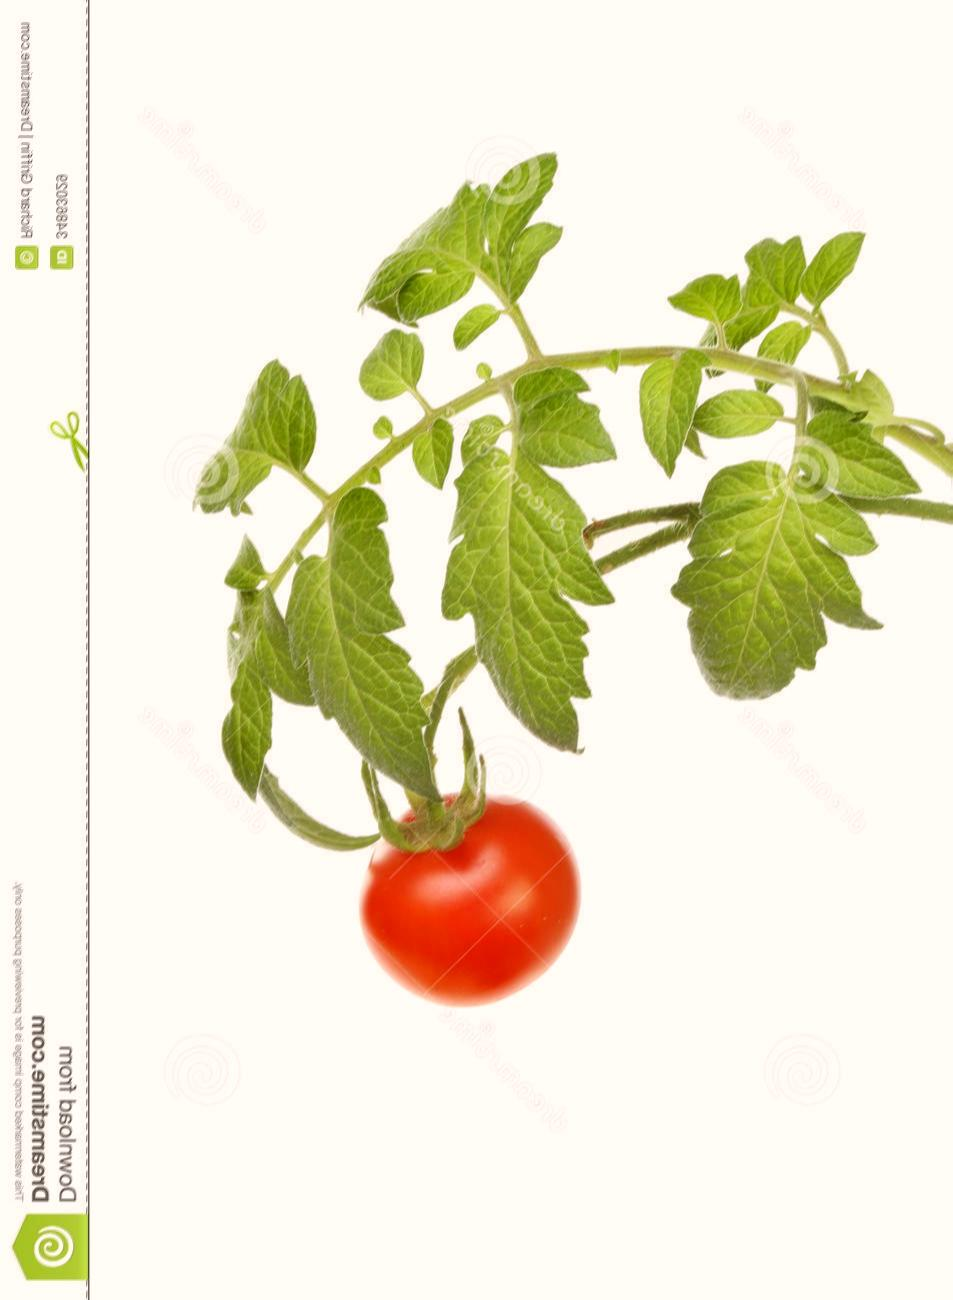Tomato leaf: (420, 337, 626, 771), (654, 429, 901, 750), (250, 428, 429, 868), (630, 337, 707, 484)
